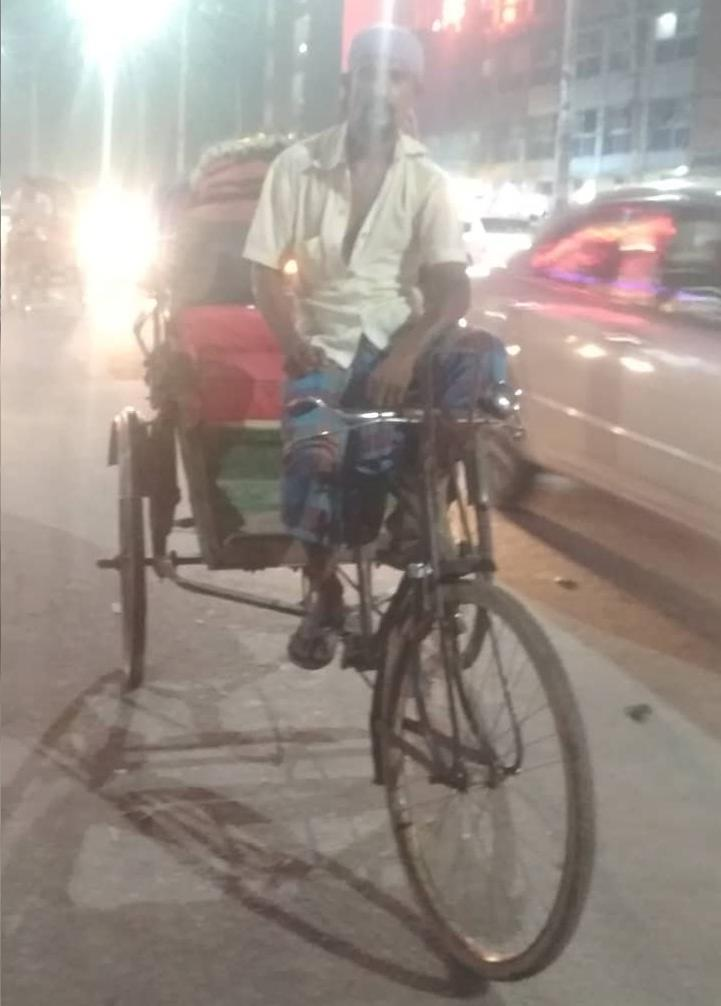Rickshaw: (116, 82, 613, 962)
